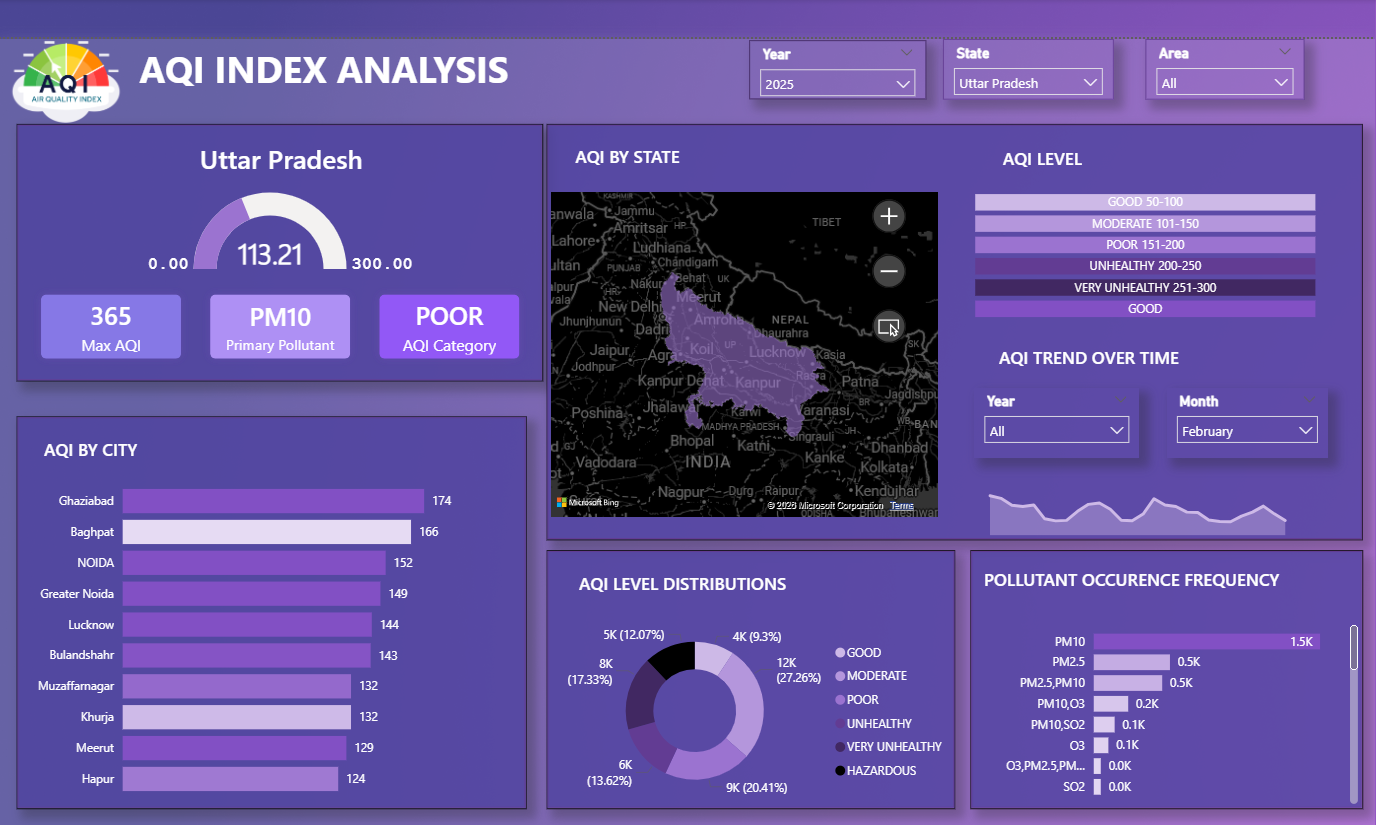

This screenshot's page, from the dashboard's own definition file:
{"tool":"powerbi","page":{"name":"Page 1","canvas":[1400,800],"ordinal":0},"visuals":[{"type":"textbox","box":[137.9,0,344.6,60.7],"z":0},{"type":"shape","box":[19.1,86.4,535,261.8],"z":1000},{"type":"image","box":[0,0,138.1,87.1],"z":2000},{"type":"gauge","fields":{"Y":["day_wise_aqi_data.Avg AQI"]},"box":[91.5,151.2,391.4,92.8],"z":3000},{"type":"slicer","fields":{"Values":["Calender Table.Year"]},"box":[763.8,1.3,179.8,60.4],"z":4000},{"type":"slicer","fields":{"Values":["day_wise_aqi_data.state"]},"box":[960.6,0,173.2,61.7],"z":5000},{"type":"slicer","fields":{"Values":["day_wise_aqi_data.area"]},"box":[1166.7,0,161.4,61.7],"z":6000},{"type":"cardVisual","fields":{"Data":["Max(day_wise_aqi_data.aqi_value)","day_wise_aqi_data.Primary Pollutant","day_wise_aqi_data.AQI Category KPI"]},"box":[28,244,518.5,97.9],"z":7000},{"type":"cardVisual","fields":{"Data":["day_wise_aqi_data.KPI Title"]},"box":[21.3,88.2,533.7,63.9],"z":8000},{"type":"shape","box":[557.9,86.4,829.9,423.2],"z":9000},{"type":"filledMap","fields":{"Category":["day_wise_aqi_data.state"],"Y":["day_wise_aqi_data.AQI Category KPI"]},"box":[557.9,151.2,402.9,339.3],"z":10000},{"type":"cardVisual","fields":{"Data":["day_wise_aqi_data.State Map Title"]},"box":[557.9,86.4,172.8,64.8],"z":11000},{"type":"barChart","fields":{"Category":["day_wise_aqi_data.AQI Category"],"Y":["day_wise_aqi_data.Label"]},"box":[988.7,144.9,355.8,143.6],"z":12000},{"type":"cardVisual","fields":{"Data":["day_wise_aqi_data.AQI TITLE"]},"box":[992.6,87.7,156.3,64.8],"z":13000},{"type":"stackedAreaChart","fields":{"Category":["Calender Table.Date.Variation.Date Hierarchy.Day"],"Y":["day_wise_aqi_data.Avg AQI"]},"box":[993.8,425.7,363.5,83.9],"z":14000},{"type":"slicer","fields":{"Values":["Calender Table.Date.Variation.Date Hierarchy.Year"]},"box":[992.6,354.6,167.8,71.2],"z":15000},{"type":"slicer","fields":{"Values":["Calender Table.Date.Variation.Date Hierarchy.Month"]},"box":[1188.3,354.6,163.9,71.2],"z":16000},{"type":"cardVisual","fields":{"Data":["Calender Table.Title For mothly chart"]},"box":[988.7,288.5,265.6,66.1],"z":17000},{"type":"shape","box":[19.1,383.8,518.5,399.1],"z":18000},{"type":"barChart","fields":{"Category":["day_wise_aqi_data.area"],"Y":["day_wise_aqi_data.Avg AQI"]},"box":[28,432.1,509.6,350.8],"z":19000},{"type":"cardVisual","fields":{"Data":["day_wise_aqi_data.Title For City"]},"box":[17.8,383.8,241.5,63.5],"z":20000},{"type":"shape","box":[557.9,519.8,415.6,263.1],"z":21000},{"type":"donutChart","fields":{"Category":["day_wise_aqi_data.AQI Category"],"Y":["day_wise_aqi_data.Count of rows"]},"box":[561.7,583.3,411.8,199.5],"z":22000},{"type":"cardVisual","fields":{"Data":["day_wise_aqi_data.donut title"]},"box":[561.7,519.8,279.6,63.5],"z":23000},{"type":"shape","box":[988.7,519.8,399.1,263.1],"z":24000},{"type":"barChart","fields":{"Category":["day_wise_aqi_data.prominent_pollutants"],"Y":["day_wise_aqi_data.Count of rows"]},"box":[988.3,582.9,399.5,199.8],"z":25000},{"type":"cardVisual","fields":{"Data":["day_wise_aqi_data.POLLUTANT TITLE"]},"box":[973.5,516,374.9,63.5],"z":26000}]}

Visuals, with their boxes on the page's 1400x800 design canvas (x1, y1, x2, y2). These are canvas units, not pixel positions in the 1376x825 screenshot, which may show the page scaled, cropped or inside an application window:
textbox: box=[138, 0, 482, 61]
shape: box=[19, 86, 554, 348]
image: box=[0, 0, 138, 87]
gauge - day_wise_aqi_data.Avg AQI: box=[92, 151, 483, 244]
slicer - Calender Table.Year: box=[764, 1, 944, 62]
slicer - day_wise_aqi_data.state: box=[961, 0, 1134, 62]
slicer - day_wise_aqi_data.area: box=[1167, 0, 1328, 62]
cardVisual - Max(day_wise_aqi_data.aqi_value) x day_wise_aqi_data.Primary Pollutant: box=[28, 244, 546, 342]
cardVisual - day_wise_aqi_data.KPI Title: box=[21, 88, 555, 152]
shape: box=[558, 86, 1388, 510]
filledMap - day_wise_aqi_data.state x day_wise_aqi_data.AQI Category KPI: box=[558, 151, 961, 490]
cardVisual - day_wise_aqi_data.State Map Title: box=[558, 86, 731, 151]
barChart - day_wise_aqi_data.AQI Category x day_wise_aqi_data.Label: box=[989, 145, 1344, 288]
cardVisual - day_wise_aqi_data.AQI TITLE: box=[993, 88, 1149, 152]
stackedAreaChart - Calender Table.Date.Variation.Date Hierarchy.Day x day_wise_aqi_data.Avg AQI: box=[994, 426, 1357, 510]
slicer - Calender Table.Date.Variation.Date Hierarchy.Year: box=[993, 355, 1160, 426]
slicer - Calender Table.Date.Variation.Date Hierarchy.Month: box=[1188, 355, 1352, 426]
cardVisual - Calender Table.Title For mothly chart: box=[989, 288, 1254, 355]
shape: box=[19, 384, 538, 783]
barChart - day_wise_aqi_data.area x day_wise_aqi_data.Avg AQI: box=[28, 432, 538, 783]
cardVisual - day_wise_aqi_data.Title For City: box=[18, 384, 259, 447]
shape: box=[558, 520, 974, 783]
donutChart - day_wise_aqi_data.AQI Category x day_wise_aqi_data.Count of rows: box=[562, 583, 974, 783]
cardVisual - day_wise_aqi_data.donut title: box=[562, 520, 841, 583]
shape: box=[989, 520, 1388, 783]
barChart - day_wise_aqi_data.prominent_pollutants x day_wise_aqi_data.Count of rows: box=[988, 583, 1388, 783]
cardVisual - day_wise_aqi_data.POLLUTANT TITLE: box=[974, 516, 1348, 580]
